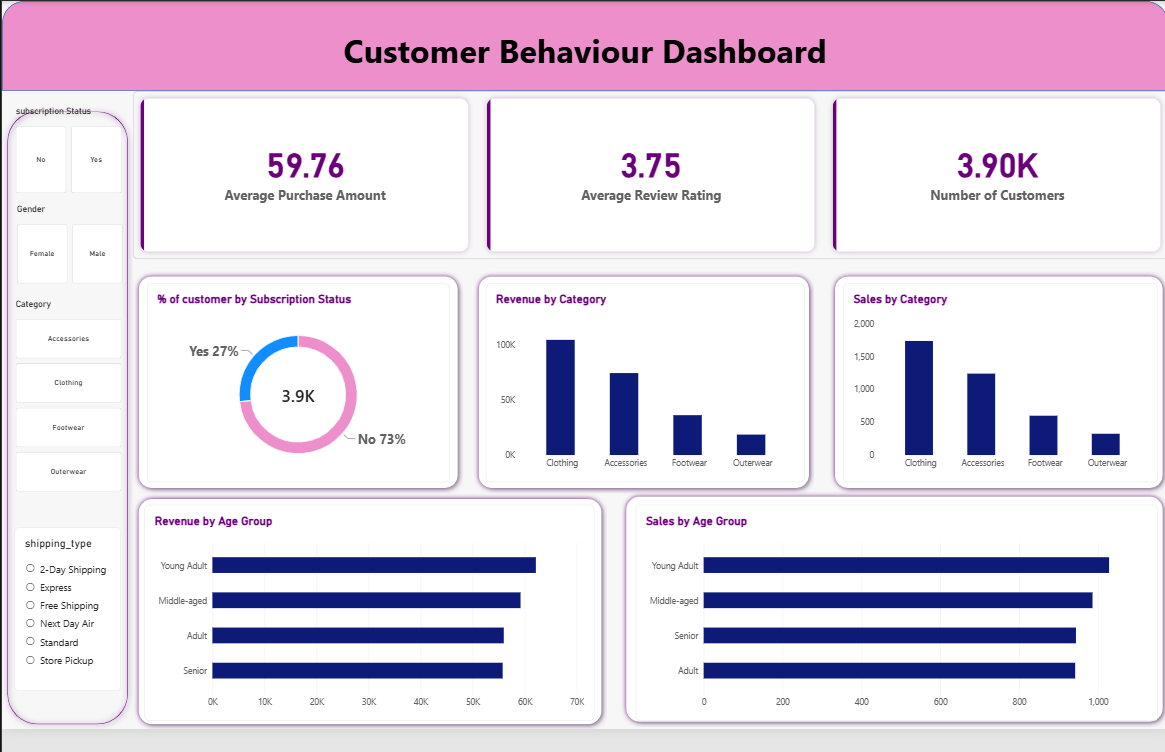

The page's visual inventory and layout, read from the dashboard file:
{"tool":"powerbi","page":{"name":"Page 1","canvas":[1920,1200],"ordinal":0},"visuals":[{"type":"cardVisual","fields":{"Data":["public customer.Average Purchase Amount","public customer.Average Review Rating","public customer.Number of Customers"]},"box":[216.1,148.2,1704.3,277.9],"z":0},{"type":"shape","box":[0,0,1920.4,148.2],"z":2000},{"type":"shape","box":[216.1,444.6,543.4,366.4],"z":3000},{"type":"donutChart","title":"% of customer by Subscription Status","fields":{"Category":["public customer.subscription_status"],"Y":["CountNonNull(public customer.customer_id)"]},"box":[238.8,465.2,498.1,327.3],"z":4000},{"type":"shape","box":[776,444.6,561.9,366.4],"z":5000},{"type":"shape","box":[1362.6,444.6,557.8,366.4],"z":6000},{"type":"clusteredColumnChart","title":"Revenue by Category","fields":{"Category":["public customer.category"],"Y":["Sum(public customer.purchase_amount)"]},"box":[796.6,465.2,524.9,327.3],"z":6001},{"type":"clusteredColumnChart","title":"Sales by Category","fields":{"Category":["public customer.category"],"Y":["CountNonNull(public customer.customer_id)"]},"box":[1385.3,465.2,518.7,327.3],"z":6002},{"type":"shape","box":[0,172.9,216.1,1027.1],"z":6003},{"type":"advancedSlicerVisual","fields":{"Values":["public customer.subscription_status"]},"box":[22.6,172.9,175,144.1],"z":6004},{"type":"advancedSlicerVisual","fields":{"Values":["public customer.gender"]},"box":[24.7,333.4,175,131.7],"z":6005},{"type":"advancedSlicerVisual","fields":{"Values":["public customer.category"]},"box":[22.6,489.9,175,321.1],"z":6006},{"type":"listSlicer","fields":{"Values":["public customer.shipping_type"]},"box":[20.6,866.6,175,269.6],"z":6007},{"type":"shape","box":[1018.9,806.9,901.5,389],"z":6010},{"type":"clusteredBarChart","title":"Sales by Age Group","fields":{"Category":["public customer.age_group"],"Y":["CountNonNull(public customer.customer_id)"]},"box":[1043.6,829.5,860.4,356.1],"z":6011},{"type":"shape","box":[216.1,811,780.1,389],"z":6012},{"type":"clusteredBarChart","title":"Revenue by Age Group","fields":{"Category":["public customer.age_group"],"Y":["Sum(public customer.purchase_amount)"]},"box":[234.6,829.5,741,356.1],"z":6013}]}

Visuals, with their boxes on the page's 1920x1200 design canvas (x1, y1, x2, y2). These are canvas units, not pixel positions in the 1165x752 screenshot, which may show the page scaled, cropped or inside an application window:
cardVisual - public customer.Average Purchase Amount x public customer.Average Review Rating: x1=216 y1=148 x2=1920 y2=426
shape: x1=0 y1=0 x2=1920 y2=148
shape: x1=216 y1=445 x2=760 y2=811
"% of customer by Subscription Status" donutChart: x1=239 y1=465 x2=737 y2=792
shape: x1=776 y1=445 x2=1338 y2=811
shape: x1=1363 y1=445 x2=1920 y2=811
"Revenue by Category" clusteredColumnChart: x1=797 y1=465 x2=1322 y2=792
"Sales by Category" clusteredColumnChart: x1=1385 y1=465 x2=1904 y2=792
shape: x1=0 y1=173 x2=216 y2=1200
advancedSlicerVisual - public customer.subscription_status: x1=23 y1=173 x2=198 y2=317
advancedSlicerVisual - public customer.gender: x1=25 y1=333 x2=200 y2=465
advancedSlicerVisual - public customer.category: x1=23 y1=490 x2=198 y2=811
listSlicer - public customer.shipping_type: x1=21 y1=867 x2=196 y2=1136
shape: x1=1019 y1=807 x2=1920 y2=1196
"Sales by Age Group" clusteredBarChart: x1=1044 y1=830 x2=1904 y2=1186
shape: x1=216 y1=811 x2=996 y2=1200
"Revenue by Age Group" clusteredBarChart: x1=235 y1=830 x2=976 y2=1186
